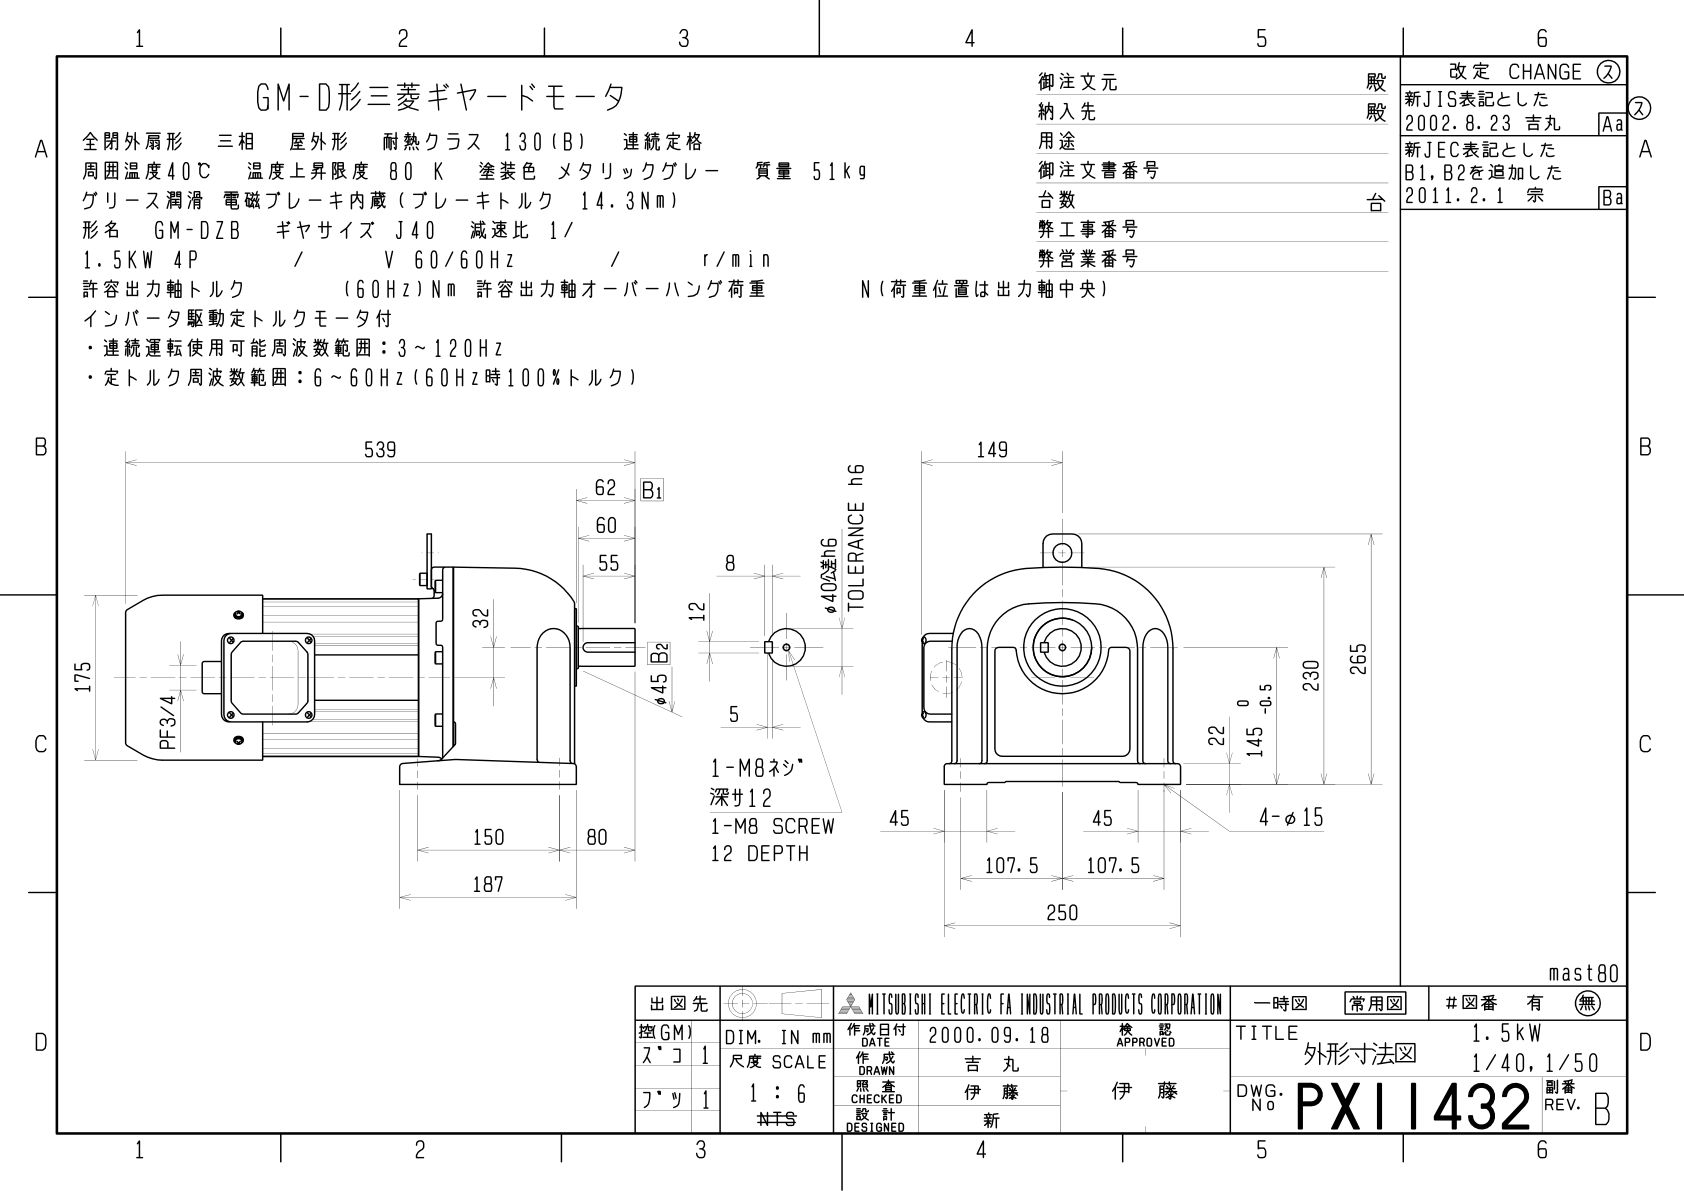GM_D_インバータ屋外_三相_脚: (61, 412, 1392, 971)
